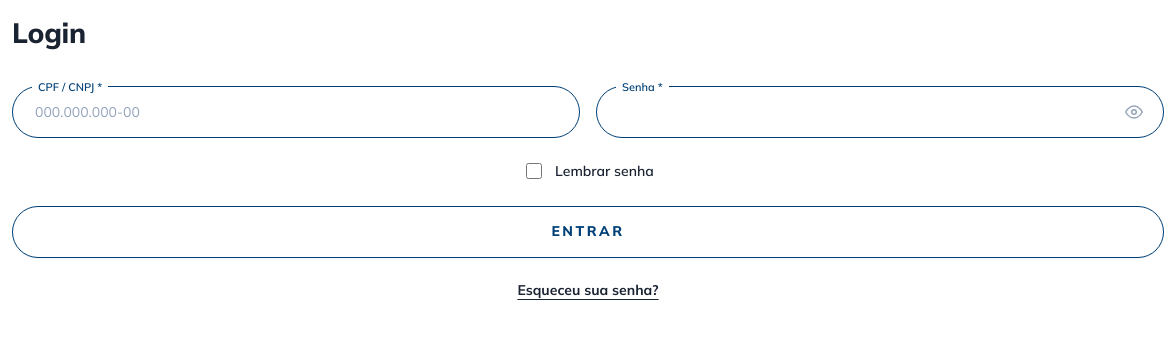
LoginForm › exibe mensagem de erro para credenciais inválidas
The image size is (1176, 354).
Type "111.111.111-11" into the field with placeholder "000.000.000-00". click: {"x": 296, "y": 112}
box: x1=12 y1=86 x2=580 y2=138
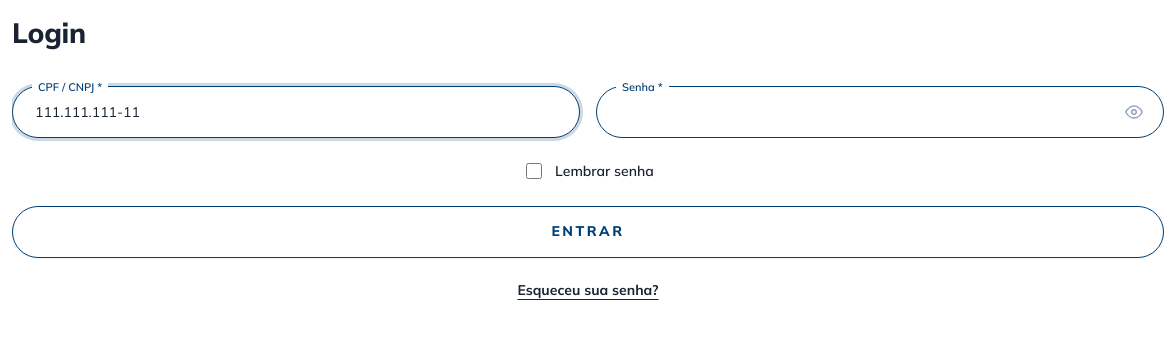
Type "errado" into the password field with id "userPwd". click: {"x": 880, "y": 112}
box: x1=596 y1=86 x2=1164 y2=138
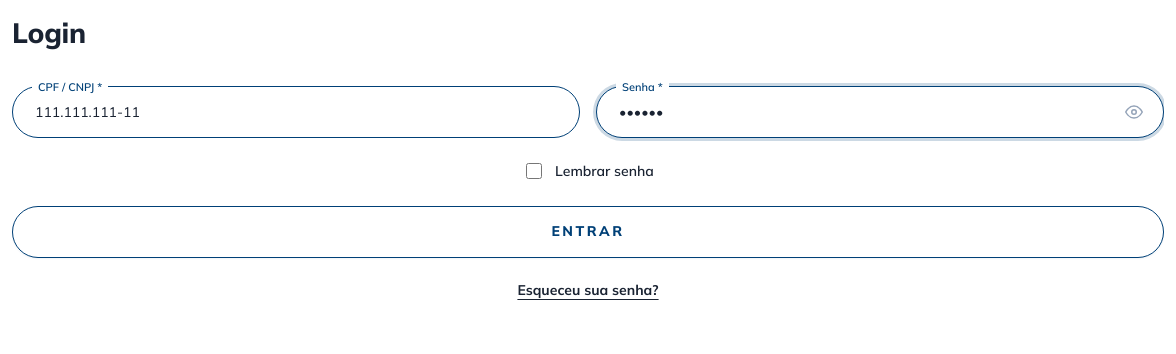
Click the button "Entrar". click: {"x": 588, "y": 232}
box: x1=12 y1=206 x2=1164 y2=258
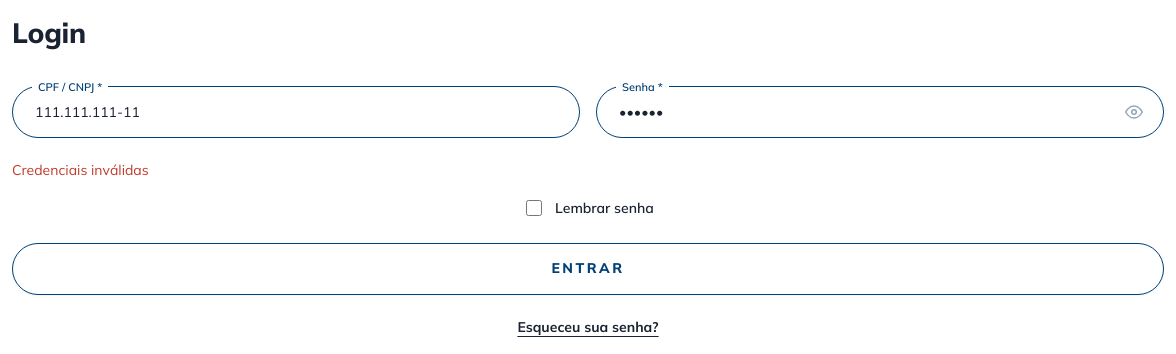
Now the text "Credenciais inválidas" is shown, box x1=12 y1=161 x2=149 y2=179
